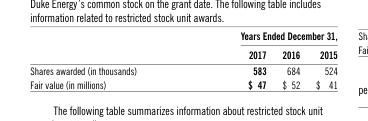table: (29, 29, 336, 90)
table column: (29, 29, 188, 90), (188, 29, 273, 90), (273, 29, 307, 90), (307, 29, 336, 90)
table column header: (29, 29, 336, 62)
table row: (29, 44, 336, 62), (29, 29, 336, 44), (29, 62, 336, 77), (29, 77, 336, 90)
table spanning cell: (188, 29, 336, 44)
